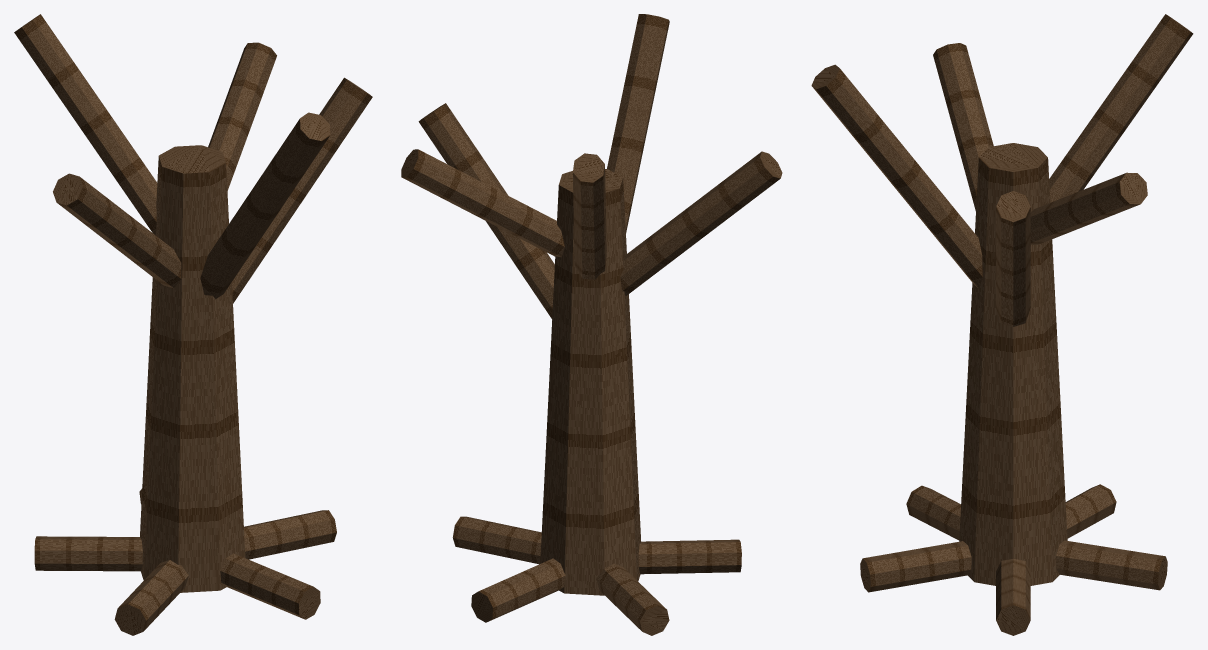
The model's file is bare_tree.glb.
3 renders of one model, left to right at view 1: azimuth 30°, elevation 25°; view 2: azimuth 150°, elevation 25°; view 3: azimuth 270°, elevation 25°, orthographic. The views are drawn at different scales.
Visible parts, largest first — view 1: trunk, branch (×5), root (×4); view 2: trunk, branch (×5), root (×4); view 3: trunk, branch (×5), root (×5).
Boxes of the visible parts, box(x1,y1,x2,y2) form: trunk: box(140, 145, 245, 592); branch (×5): box(14, 14, 372, 303); root (×4): box(34, 510, 336, 635); trunk: box(540, 169, 641, 595); branch (×5): box(401, 14, 782, 319); root (×4): box(452, 516, 741, 635); trunk: box(959, 143, 1067, 585); branch (×5): box(811, 14, 1193, 326); root (×5): box(860, 484, 1167, 635).
Bounding box in the file's own units: 2.28 × 3.29 × 2.21.
1 material, 1 textured.
